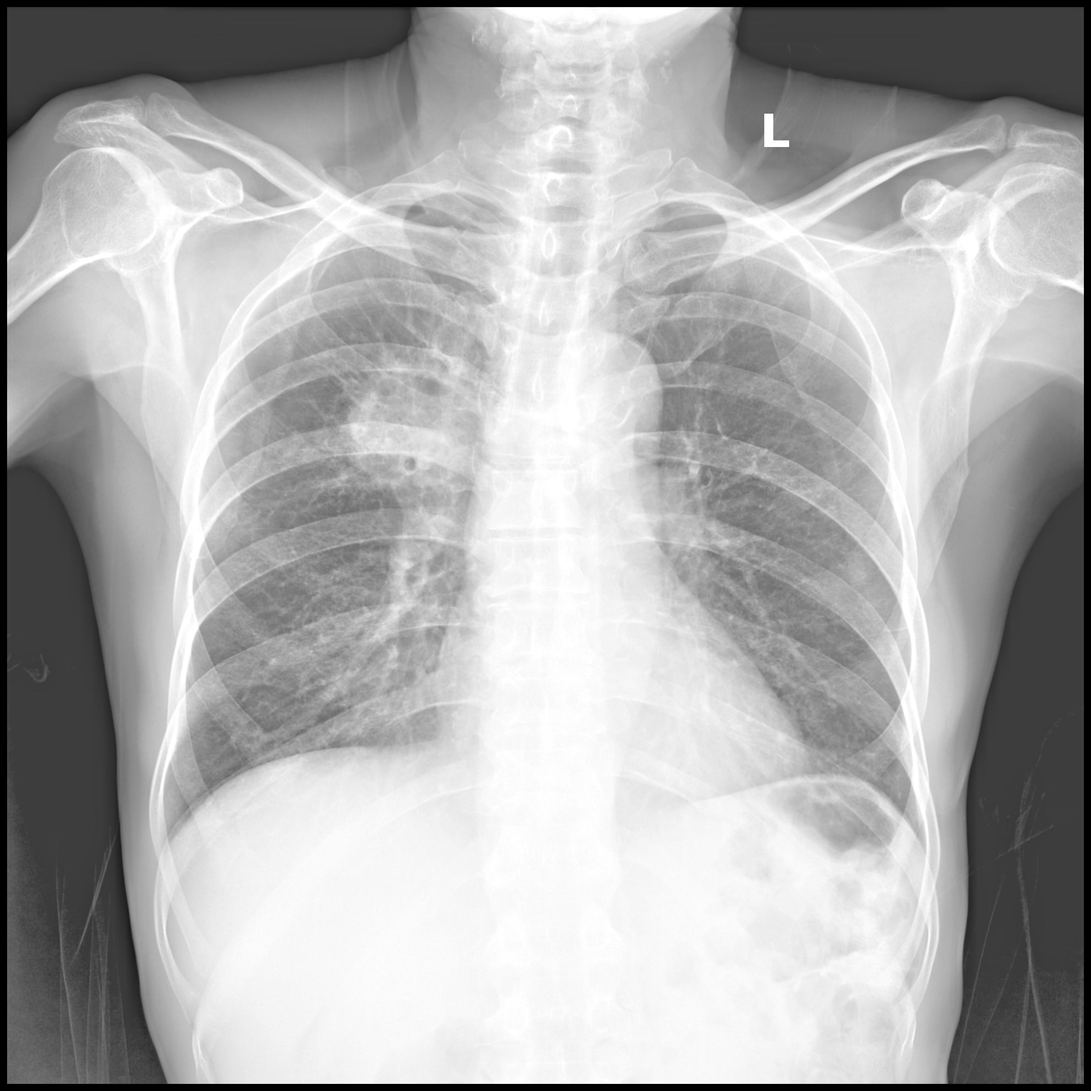Aortic enlargement: (550, 335, 664, 447)
